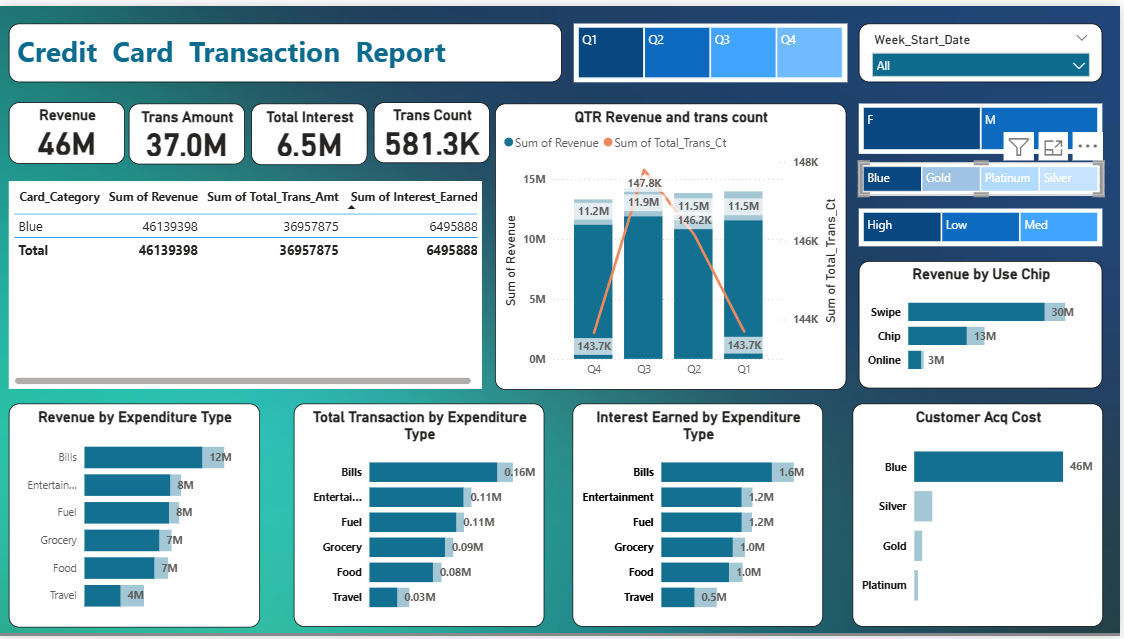

The page's visual inventory and layout, read from the dashboard file:
{"tool":"powerbi","page":{"name":"cc Transaction","canvas":[1280,720],"ordinal":0},"visuals":[{"type":"textbox","box":[9.7,19.3,632.2,67.6],"z":0},{"type":"lineStackedColumnComboChart","title":"QTR Revenue and trans count","fields":{"Category":["ccdb cc_detail.Qtr"],"Y":["Sum(ccdb cc_detail.Revenue)"],"Y2":["Sum(ccdb cc_detail.Total_Trans_Ct)"]},"box":[565.8,111,401.7,326.9],"z":1000},{"type":"barChart","title":" Revenue by Expenditure Type","fields":{"Y":["Sum(ccdb cc_detail.Revenue)"],"Category":["ccdb cc_detail.Exp_Type"]},"box":[9.7,453.6,287.1,255.8],"z":2000},{"type":"barChart","title":"Interest Earned by Expenditure Type","fields":{"Category":["ccdb cc_detail.Exp_Type"],"Y":["Sum(ccdb cc_detail.Interest_Earned)"]},"box":[654.5,454.2,286.8,255.2],"z":3000},{"type":"barChart","title":"Customer Acq Cost","fields":{"Y":["Sum(ccdb cc_detail.Revenue)"],"Category":["ccdb cc_detail.Card_Category"]},"box":[974.3,454.2,286.8,255.2],"z":4000},{"type":"barChart","title":" Revenue by Use Chip","fields":{"Y":["Sum(ccdb cc_detail.Revenue)"],"Category":["ccdb cc_detail.Use_Chip"]},"box":[982,292,278.7,146],"z":5000},{"type":"tableEx","fields":{"Values":["ccdb cc_detail.Card_Category","Sum(ccdb cc_detail.Revenue)","Sum(ccdb cc_detail.Total_Trans_Amt)","Sum(ccdb cc_detail.Interest_Earned)"]},"box":[9.7,200.3,540.5,237.7],"z":6000},{"type":"card","title":"Revenue","fields":{"Values":["Sum(ccdb cc_detail.Revenue)"]},"box":[9.4,109.4,133,70.3],"z":7000},{"type":"card","title":"Trans Amount","fields":{"Values":["Sum(ccdb cc_detail.Total_Trans_Amt)"]},"box":[147.2,111,132.7,70],"z":8000},{"type":"card","title":"Total Interest","fields":{"Values":["Sum(ccdb cc_detail.Interest_Earned)"]},"box":[287.5,110.9,133,70.3],"z":9000},{"type":"card","title":"Trans Count","fields":{"Values":["Sum(ccdb cc_detail.Total_Trans_Ct)"]},"box":[427.1,109.8,133,70],"z":10000},{"type":"slicer","fields":{"Values":["ccdb cc_detail.Week_Start_Date"]},"box":[982,19.3,278.7,67.6],"z":11000},{"type":"treemap","fields":{"Group":["ccdb cc_detail.Qtr"],"Values":["Avg(ccdb cust_detail.Client_Num)"]},"box":[655.1,19.3,312.5,67.6],"z":12000},{"type":"treemap","fields":{"Group":["ccdb cust_detail.Gender"],"Values":["Avg(ccdb cust_detail.Client_Num)"]},"box":[982,111,278.7,57.9],"z":13000},{"type":"treemap","fields":{"Group":["ccdb cc_detail.Card_Category"],"Values":["Avg(ccdb cust_detail.Client_Num)"]},"box":[982,178.6,278.7,38.6],"z":14000},{"type":"treemap","fields":{"Group":["ccdb cust_detail.IncomeGroup"],"Values":["Avg(ccdb cust_detail.Client_Num)"]},"box":[982,231.6,278.7,43.4],"z":15000},{"type":"barChart","title":"Total Transaction by Expenditure Type","fields":{"Category":["ccdb cc_detail.Exp_Type"],"Y":["Sum(ccdb cc_detail.Total_Trans_Ct)"]},"box":[336.2,454.2,286.8,255.2],"z":16000}]}

Visuals, with their boxes in screenshot pixels (x1, y1, x2, y2), scaled from the page's 1280x720 canvas onto the 1124x639 screenshot:
textbox: [9,17,564,77]
"QTR Revenue and trans count" lineStackedColumnComboChart: [497,99,850,389]
" Revenue by Expenditure Type" barChart: [9,403,261,630]
"Interest Earned by Expenditure Type" barChart: [575,403,827,630]
"Customer Acq Cost" barChart: [856,403,1107,630]
" Revenue by Use Chip" barChart: [862,259,1107,389]
tableEx - ccdb cc_detail.Card_Category x Sum(ccdb cc_detail.Revenue): [9,178,483,389]
"Revenue" card: [8,97,125,159]
"Trans Amount" card: [129,99,246,161]
"Total Interest" card: [252,98,369,161]
"Trans Count" card: [375,97,492,160]
slicer - ccdb cc_detail.Week_Start_Date: [862,17,1107,77]
treemap - ccdb cc_detail.Qtr x Avg(ccdb cust_detail.Client_Num): [575,17,850,77]
treemap - ccdb cust_detail.Gender x Avg(ccdb cust_detail.Client_Num): [862,99,1107,150]
treemap - ccdb cc_detail.Card_Category x Avg(ccdb cust_detail.Client_Num): [862,159,1107,193]
treemap - ccdb cust_detail.IncomeGroup x Avg(ccdb cust_detail.Client_Num): [862,206,1107,244]
"Total Transaction by Expenditure Type" barChart: [295,403,547,630]
